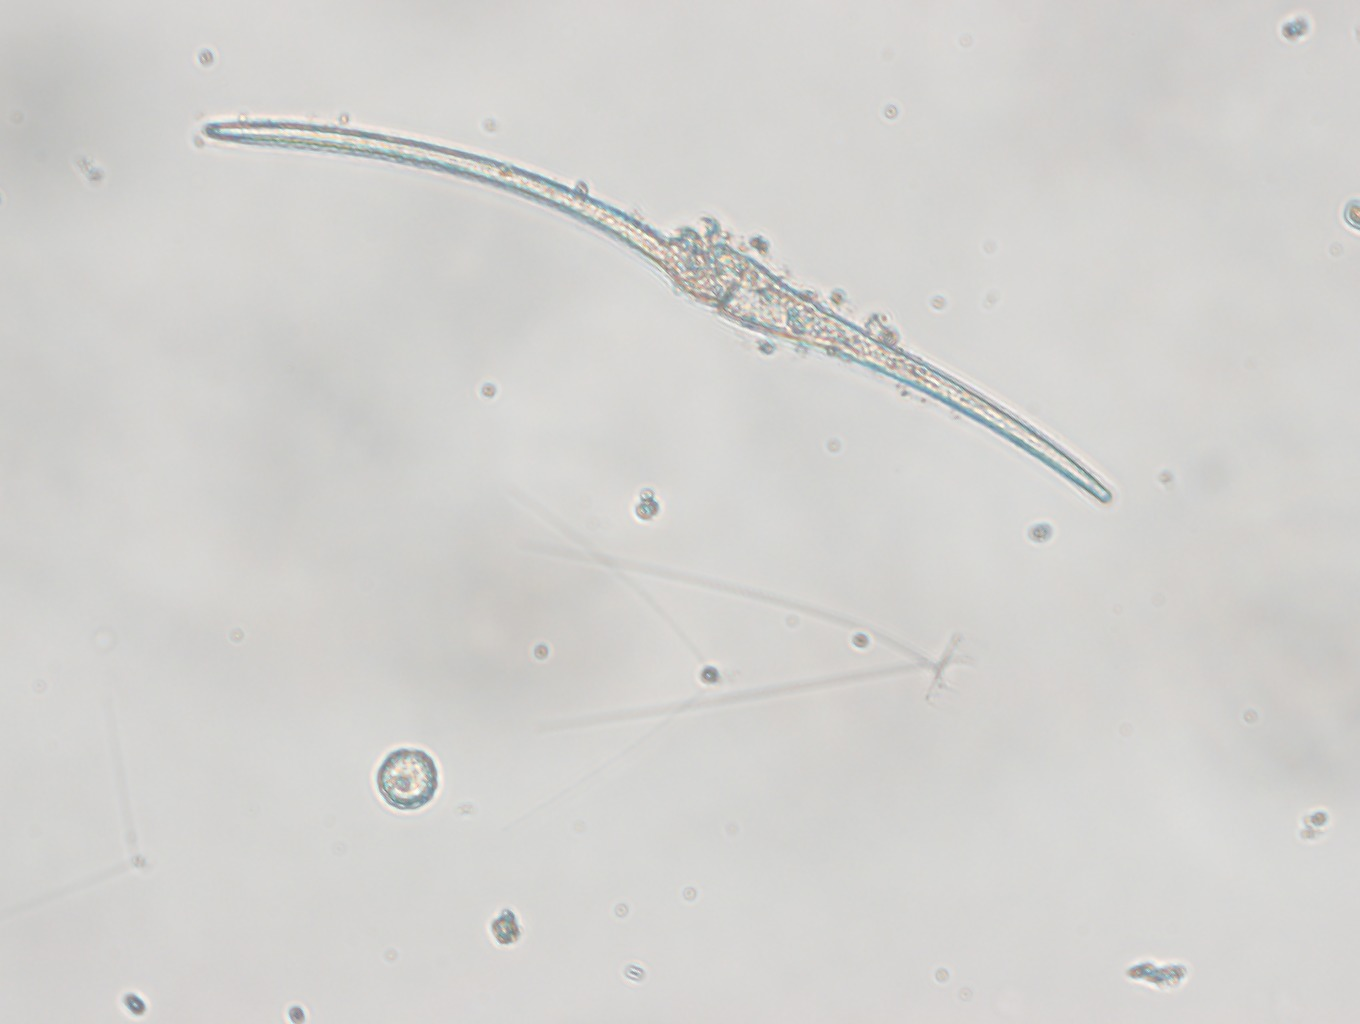ceratium fusus: (201, 108, 1115, 509)
